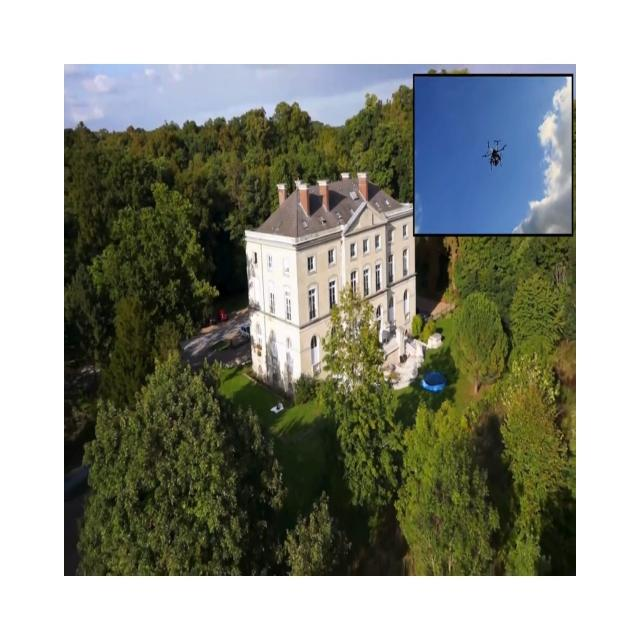drone: (482, 138, 506, 170)
